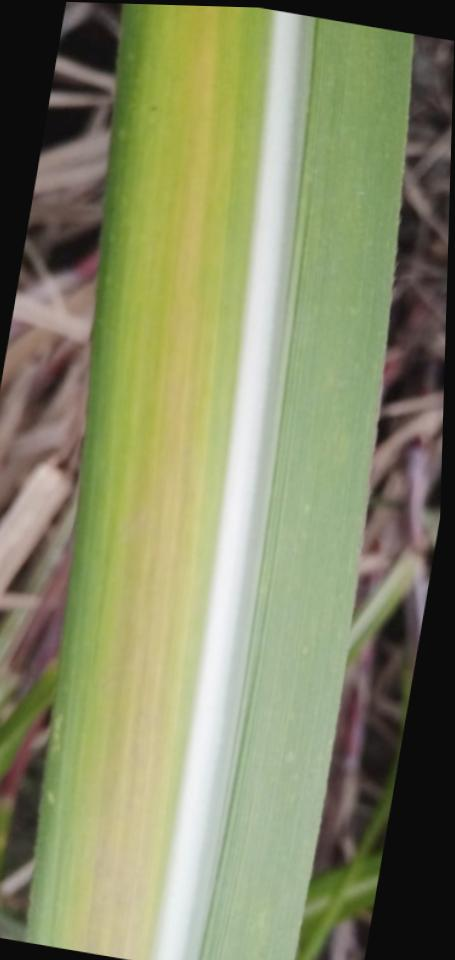Yellow: (87, 6, 221, 960)
